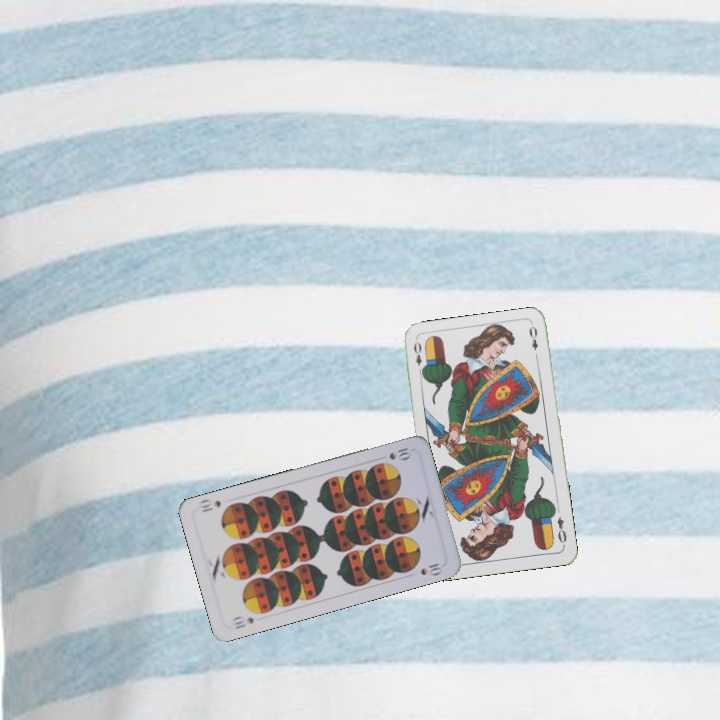EO: (410, 337, 427, 377), (553, 513, 569, 549)
S10: (385, 443, 414, 462), (228, 613, 257, 632)
